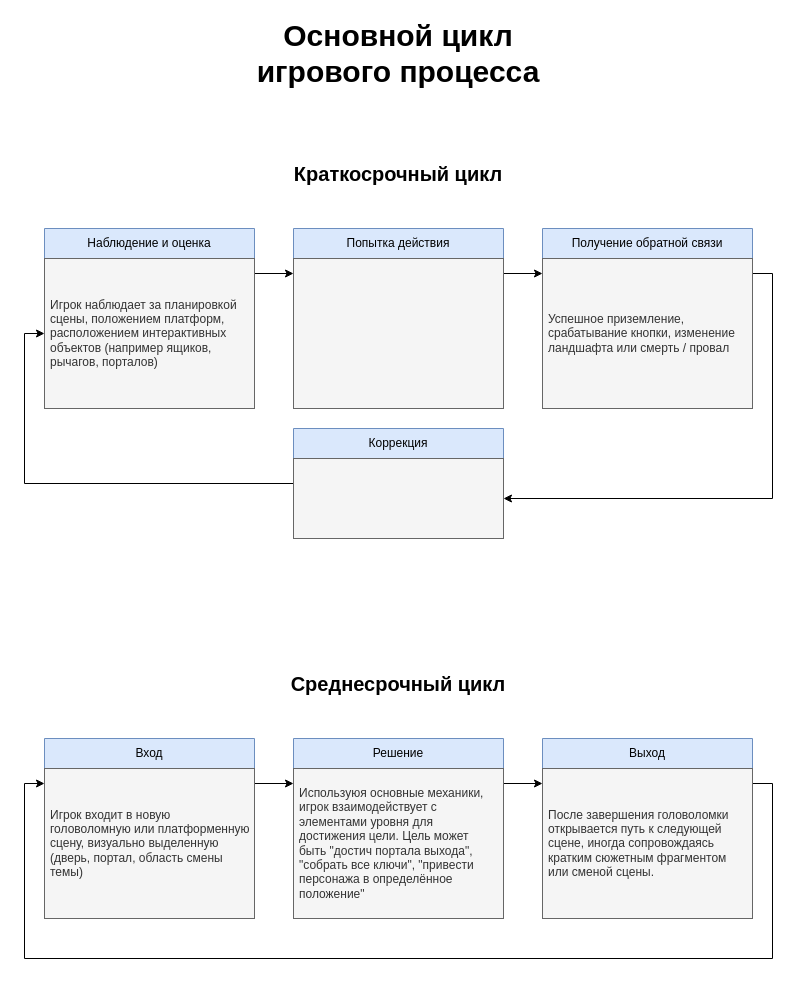
Some shapes in this 798 by 984 pixel diagram are drawn without their labels. The shapes that lost their labels are listed below. From the top down, each one's centre as x and y in pixels, then its label:
point 398,333: Игрок выполняет прыжок (или иное действие)
point 398,498: На основе обратной связи игрок немедлено настраивает следующее действие
